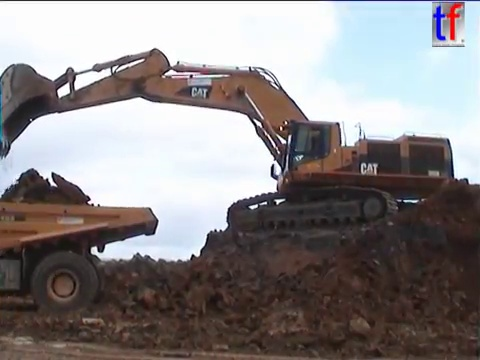excavator: (1, 44, 472, 241)
truck: (1, 196, 163, 323)
